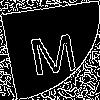M: (25, 24, 81, 76)
